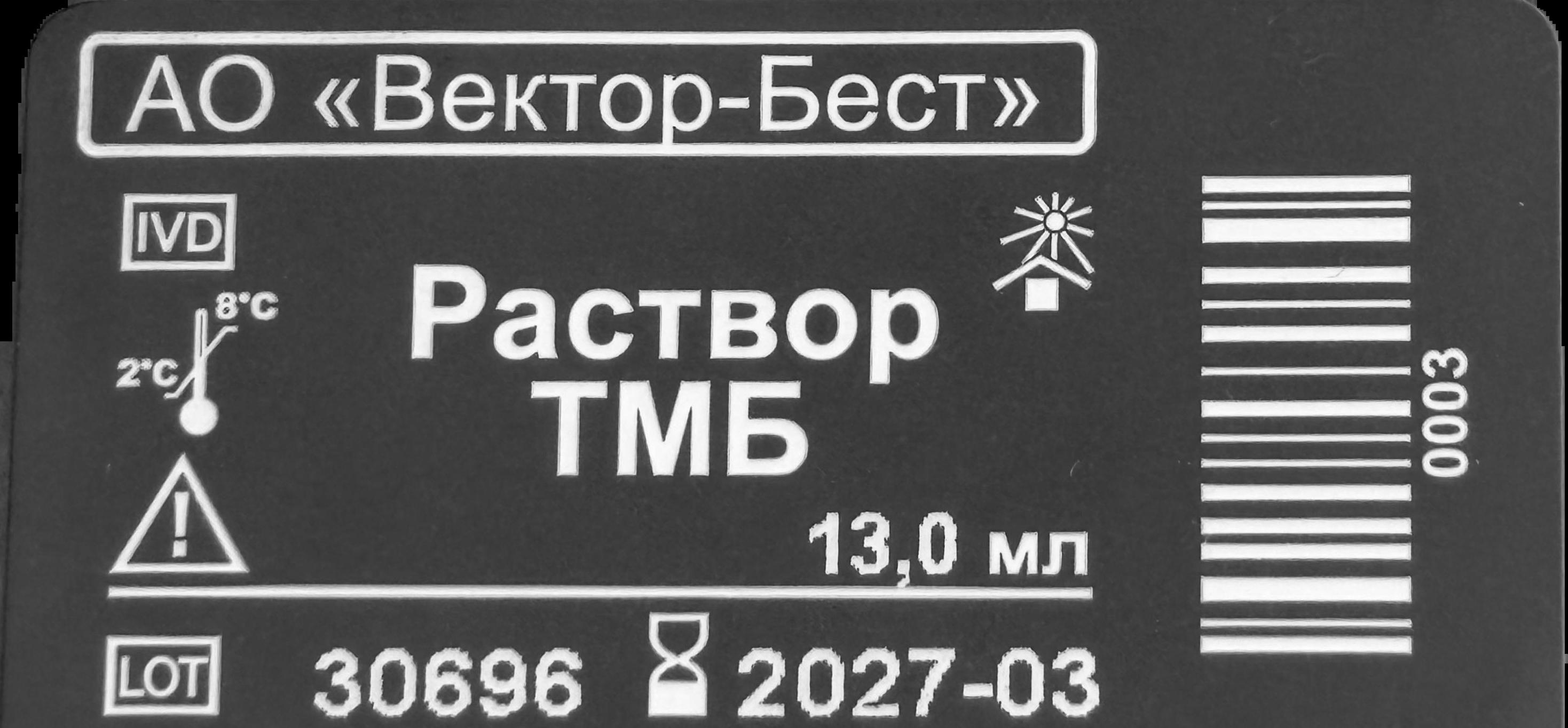something: (114, 288, 283, 437), (107, 450, 253, 578), (987, 182, 1103, 319), (116, 189, 241, 275), (101, 635, 221, 718), (642, 607, 710, 721)
text: (406, 261, 943, 484), (121, 45, 1045, 146), (727, 639, 1101, 722), (810, 500, 1098, 589), (309, 637, 589, 723), (1419, 347, 1472, 479)
